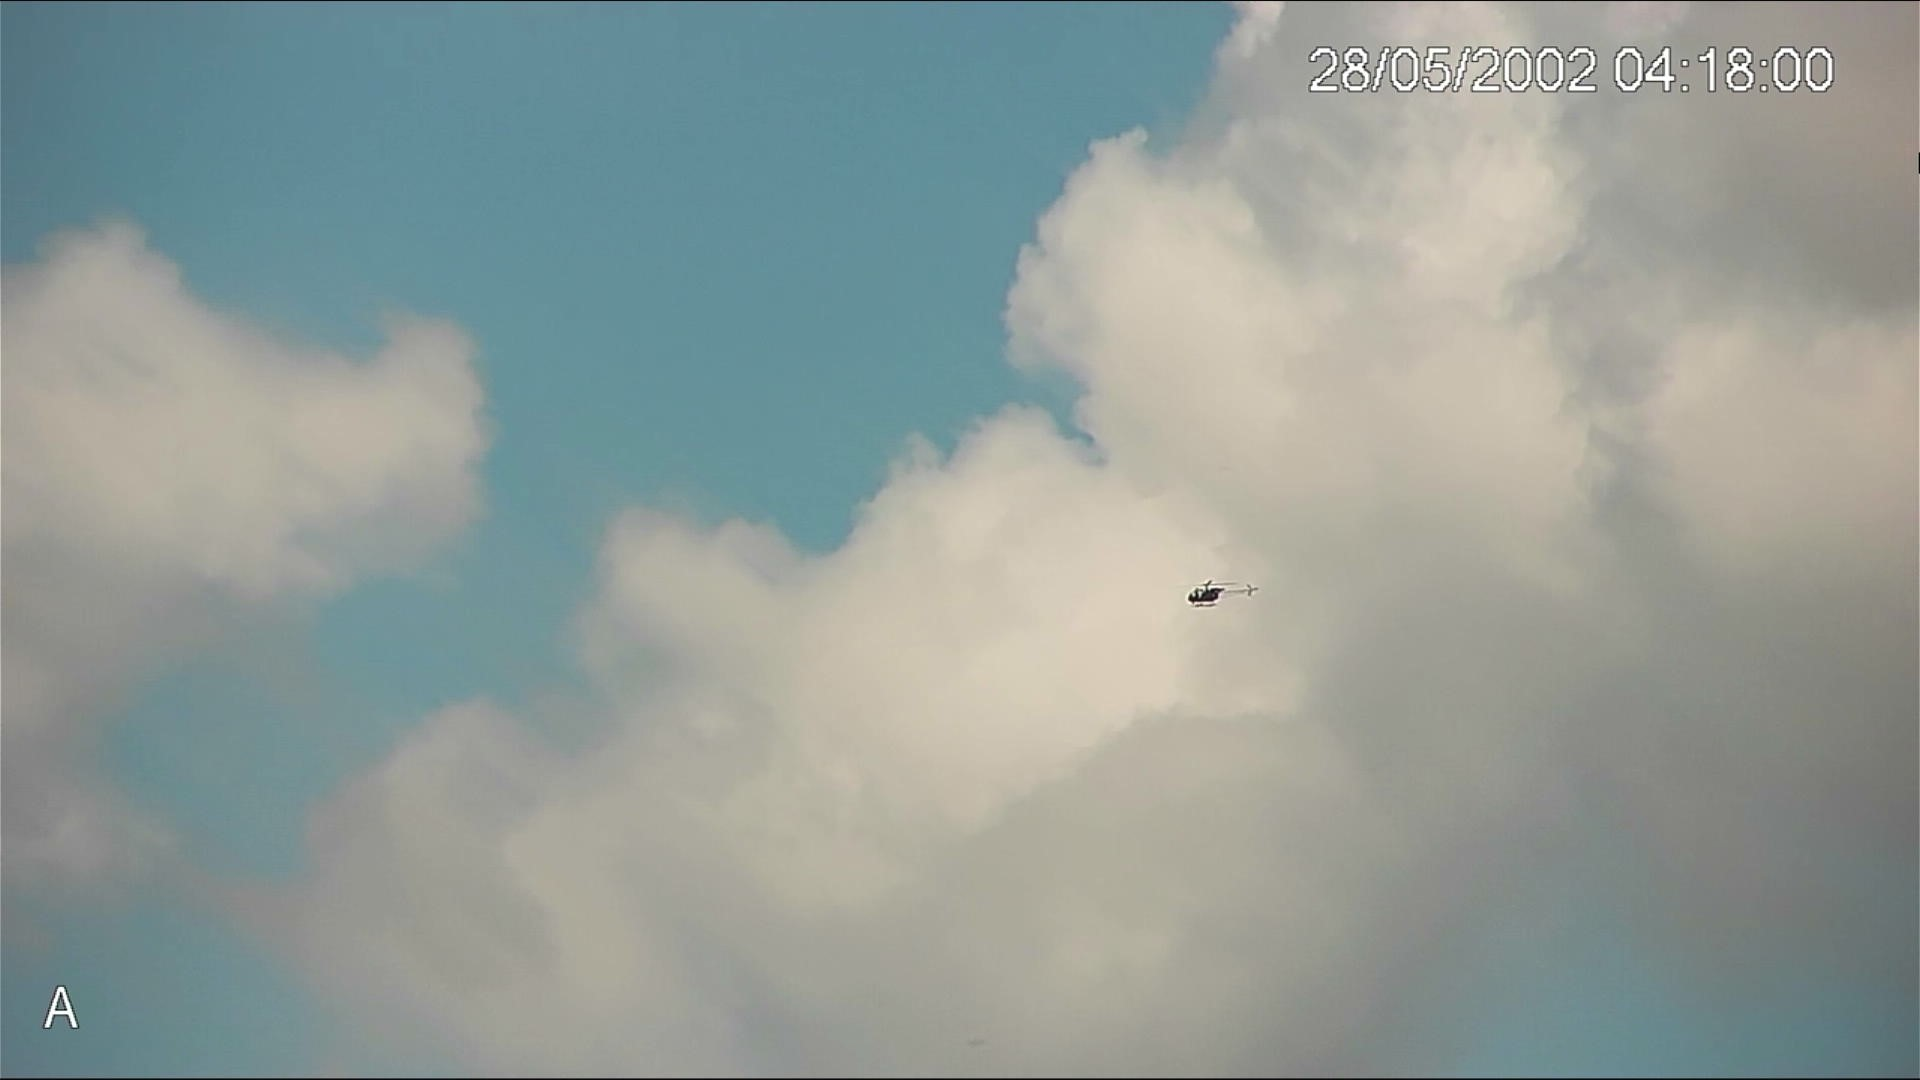SU_30: (1184, 579, 1258, 609)
